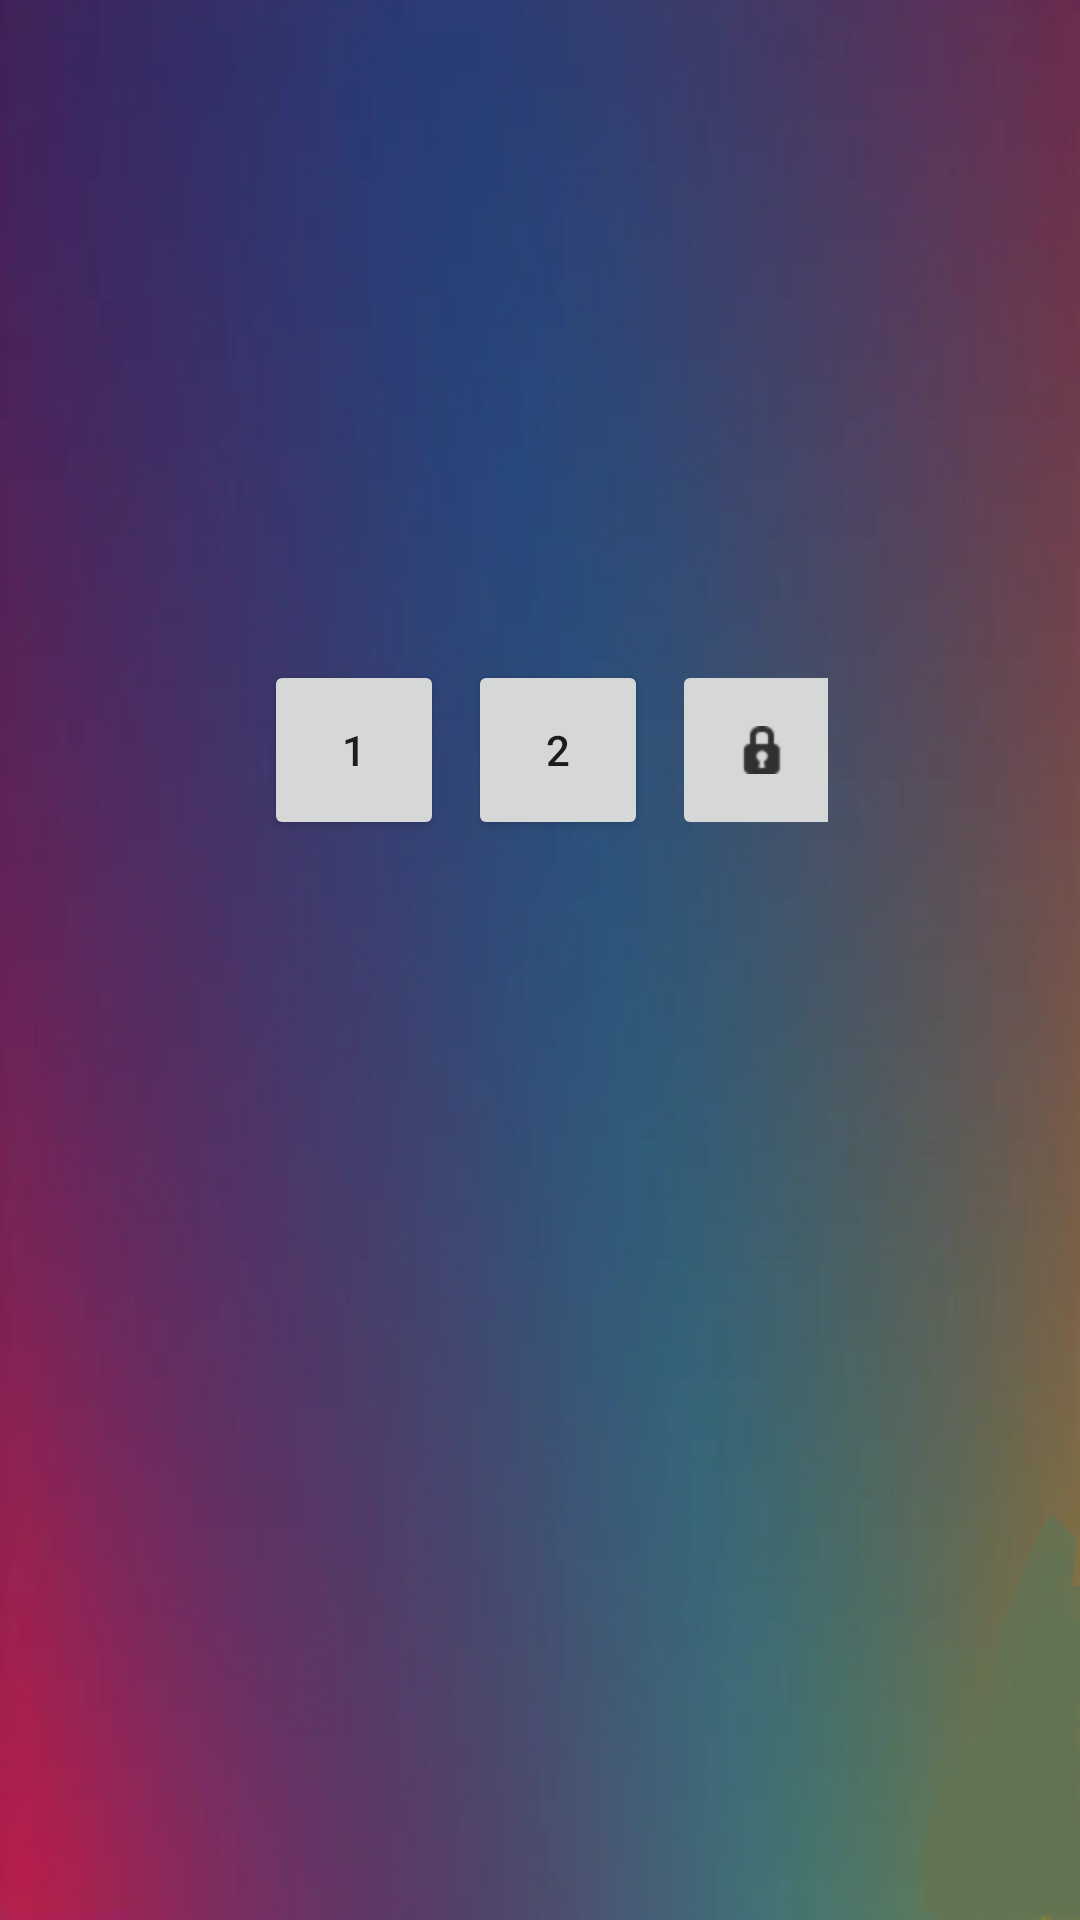

Icons on this 1080x1920 Android screen, each with its box as (x1, y1, x2, y2):
secure: (684, 678, 828, 822)
